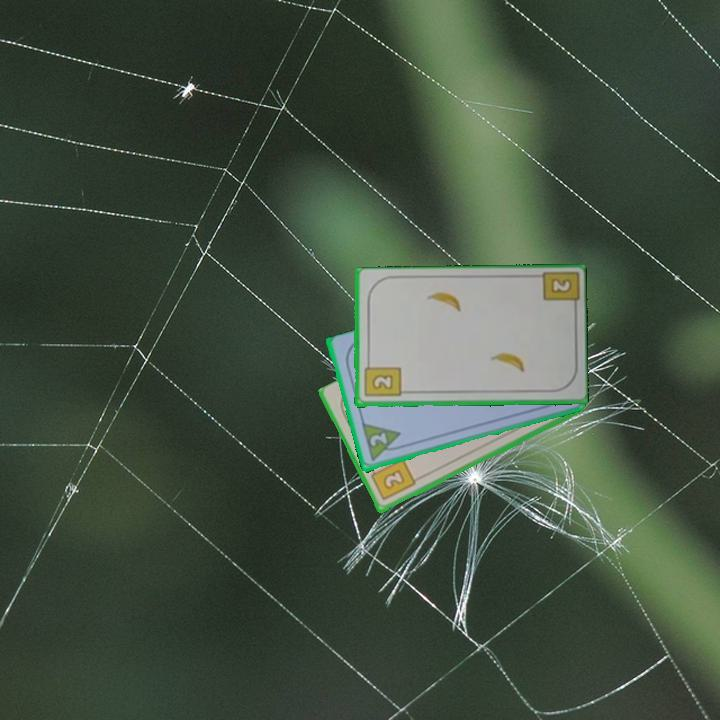2b: (367, 456, 418, 503), (361, 358, 403, 400), (547, 275, 575, 296)
2p: (358, 421, 406, 465)
